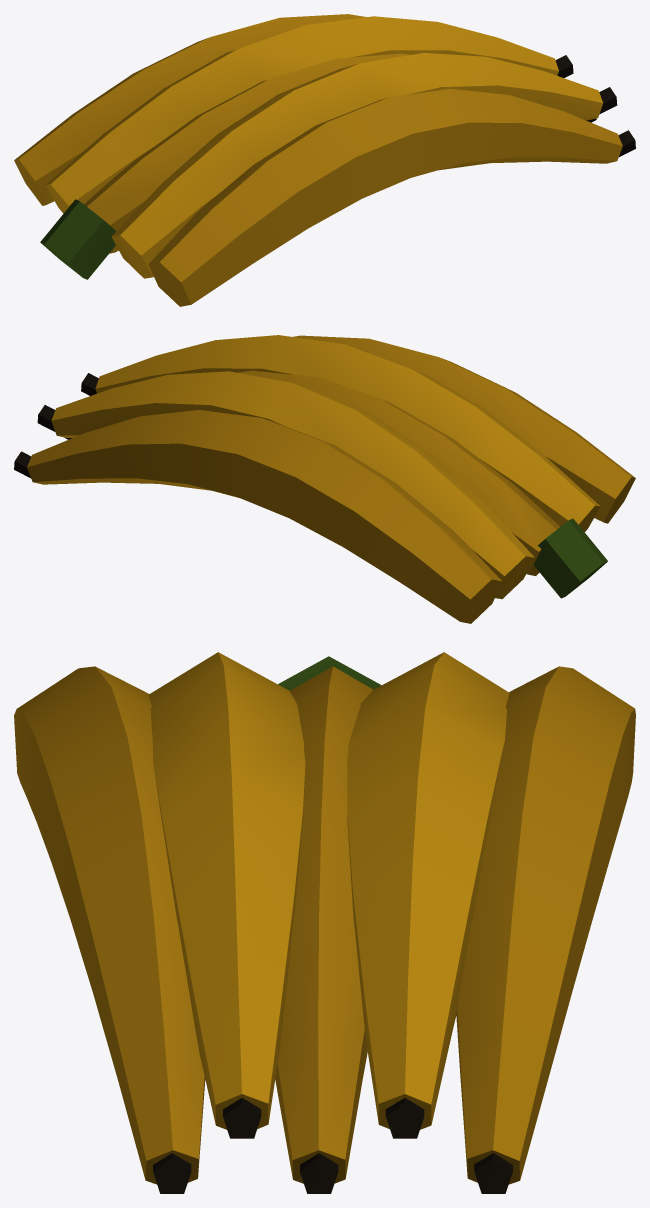
File: mkt-banana-bunch.glb
The picture shows the model from 3 angles, top to bottom: view 1: azimuth 30°, elevation 25°; view 2: azimuth 150°, elevation 25°; view 3: azimuth 270°, elevation 25°; orthographic projection. The views are drawn at different scales.
Parts seen in each view (by area): view 1: bananas__food, stalk__plant, tips__food; view 2: bananas__food, stalk__plant, tips__food; view 3: bananas__food, tips__food, stalk__plant.
Part boxes in pixels (x1,y1,x2,y2): bananas__food: (14, 14, 622, 306); stalk__plant: (40, 199, 116, 279); tips__food: (555, 55, 635, 156); bananas__food: (27, 335, 635, 623); stalk__plant: (534, 518, 607, 598); tips__food: (14, 373, 98, 478); bananas__food: (14, 652, 635, 1184); tips__food: (153, 1098, 512, 1193); stalk__plant: (278, 656, 381, 690).
Size of the model in its own units: 0.232 by 0.0704 by 0.1228.
